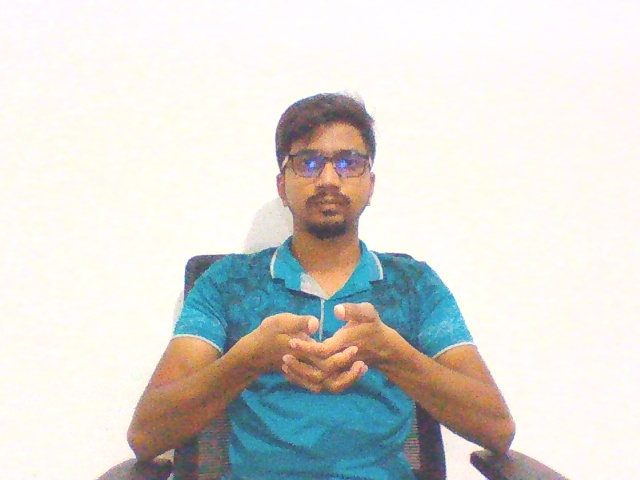mangosteen: (224, 294, 420, 404)
